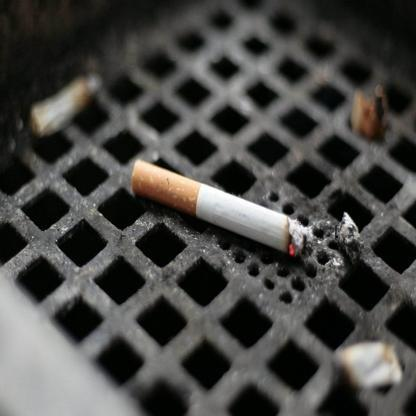trash: (127, 160, 309, 252)
